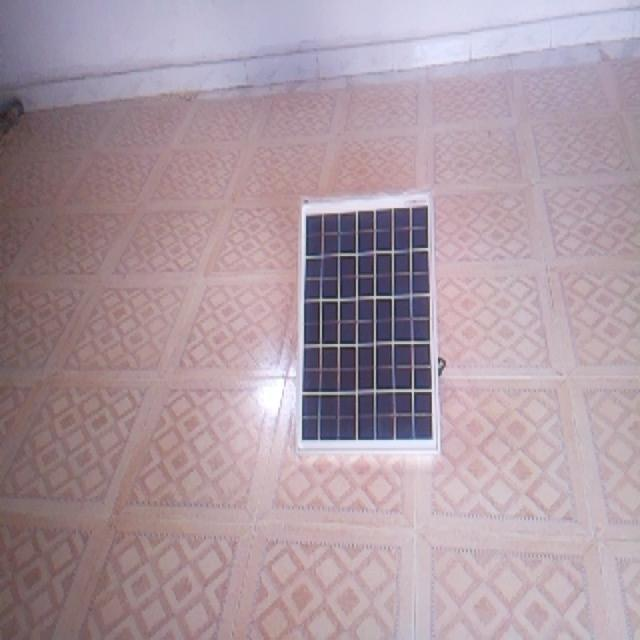Normal Solar Panel: (299, 195, 440, 453)
